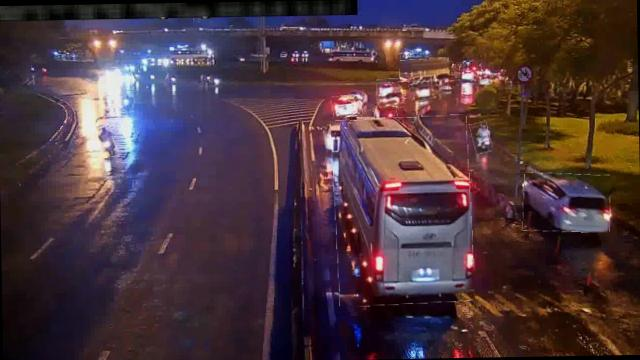Bike: (471, 121, 492, 153), (97, 124, 116, 158)
Bus: (332, 116, 473, 306)
Car: (522, 171, 610, 232), (332, 94, 362, 118), (377, 90, 404, 110), (374, 106, 398, 126), (410, 80, 433, 100), (376, 80, 401, 94)
Truck: (399, 58, 448, 82)
